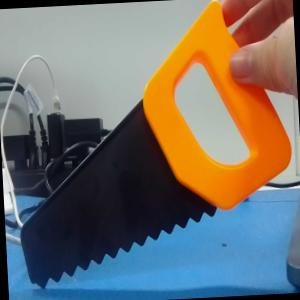serrote: (6, 0, 290, 289)
